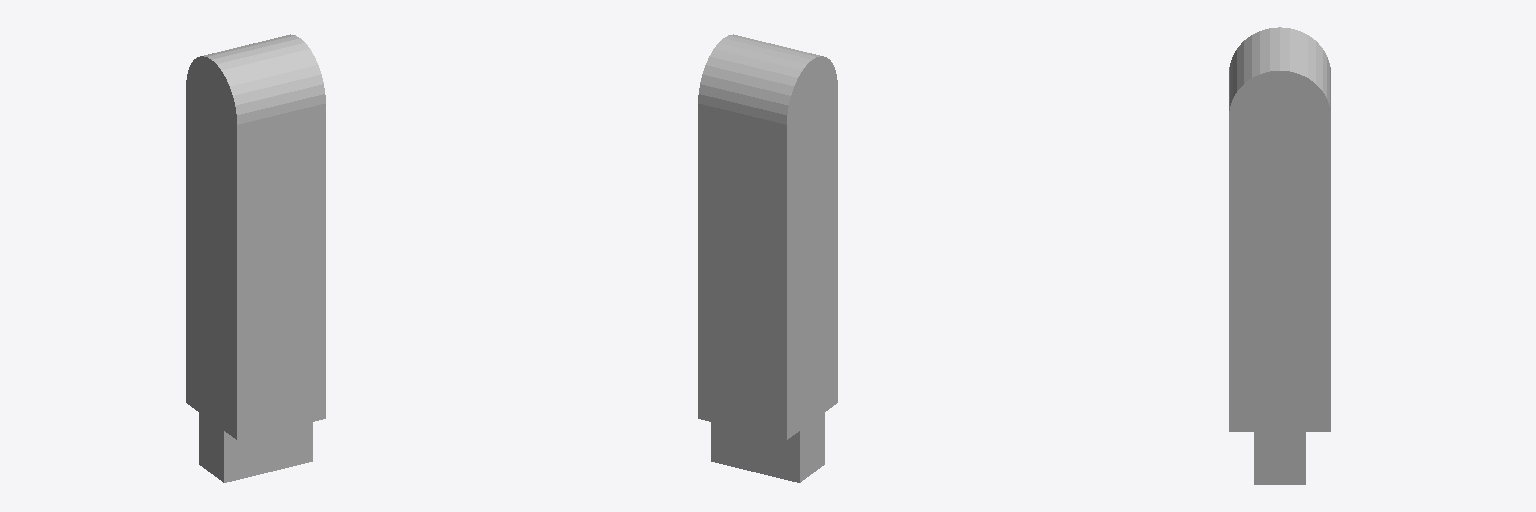
File: body_r_dist_pinvround.obj
3 renders of one model, left to right at view 1: azimuth 30°, elevation 25°; view 2: azimuth 150°, elevation 25°; view 3: azimuth 270°, elevation 25°, orthographic.
Parts seen in each view (by area): view 1: body_r_dist_pinvround_Cube.686; view 2: body_r_dist_pinvround_Cube.686; view 3: body_r_dist_pinvround_Cube.686.
Part boxes in pixels (x1,y1,x2,y2): body_r_dist_pinvround_Cube.686: (186, 34, 325, 482); body_r_dist_pinvround_Cube.686: (698, 34, 837, 482); body_r_dist_pinvround_Cube.686: (1229, 27, 1330, 484).
Bounding box in the file's own units: 0.02 × 0.0892 × 0.02.